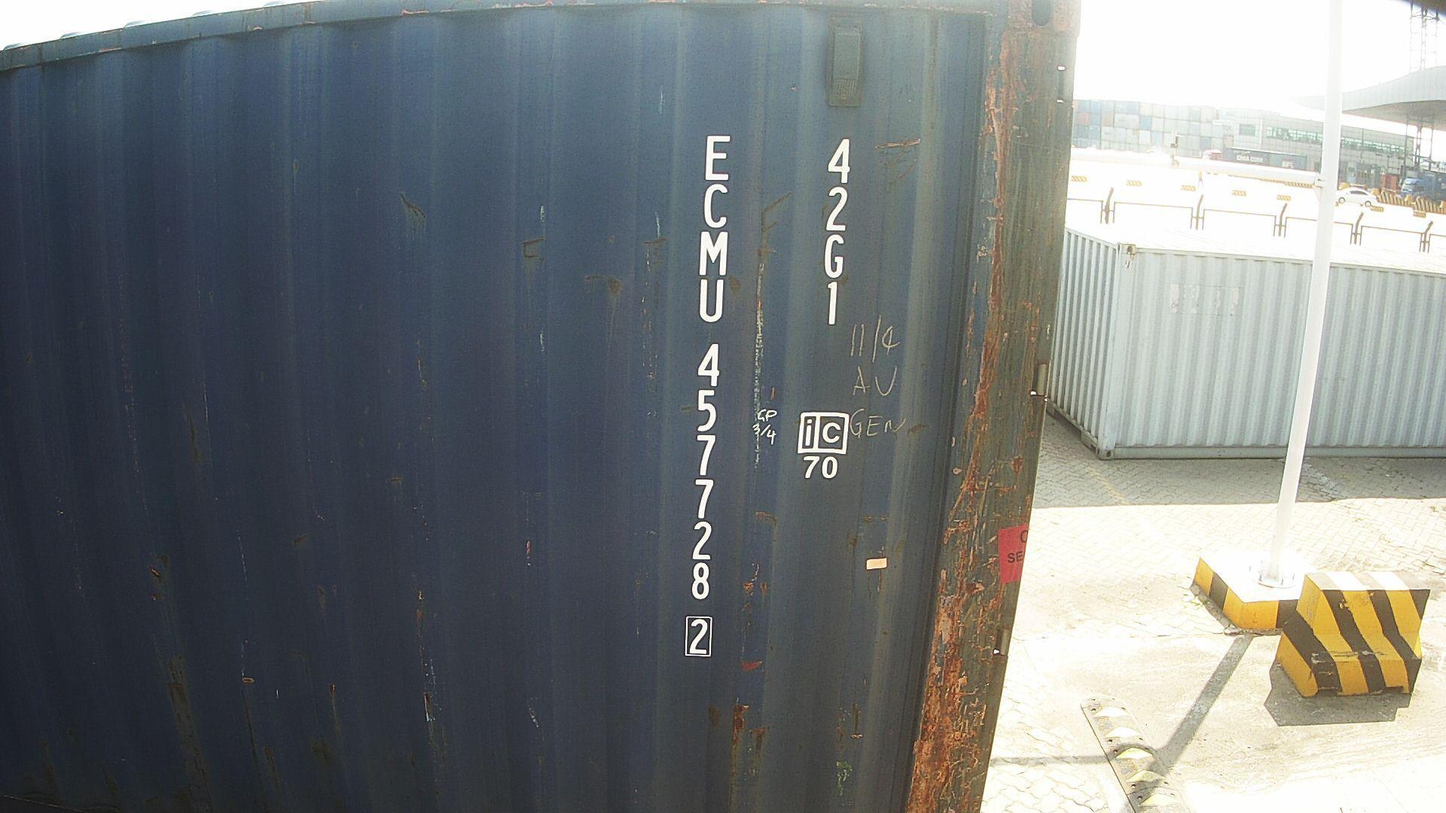container-numbers: (676, 129, 734, 665), (813, 131, 856, 331)
